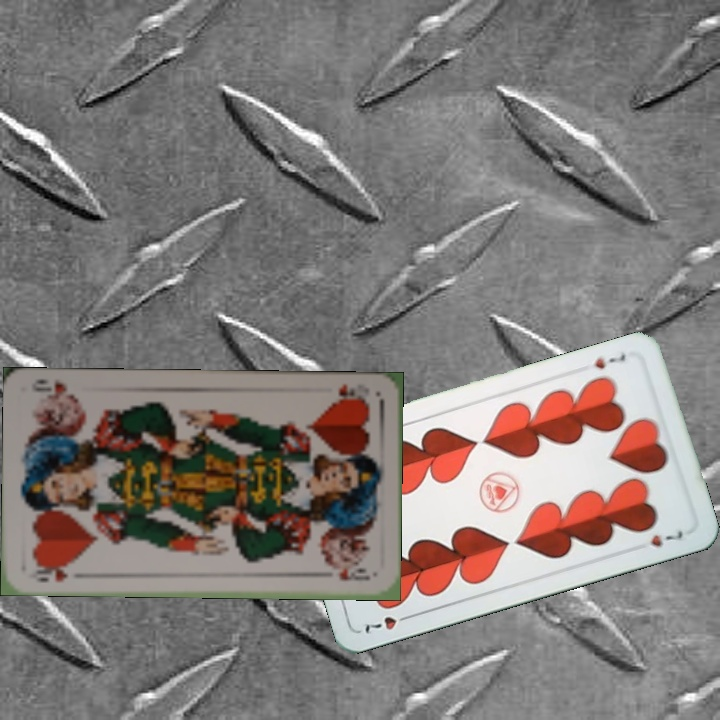H7: (361, 610, 416, 636), (591, 350, 628, 372)
HO: (328, 379, 372, 406), (30, 560, 70, 585)
